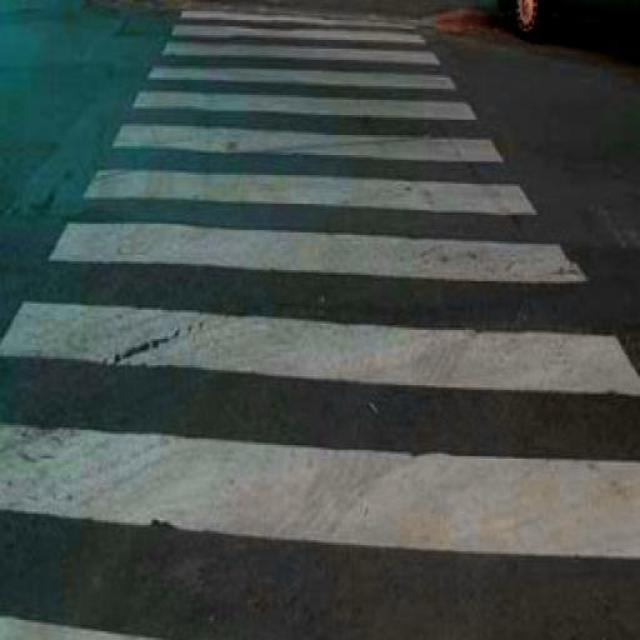crosswalk: (2, 13, 640, 560)
